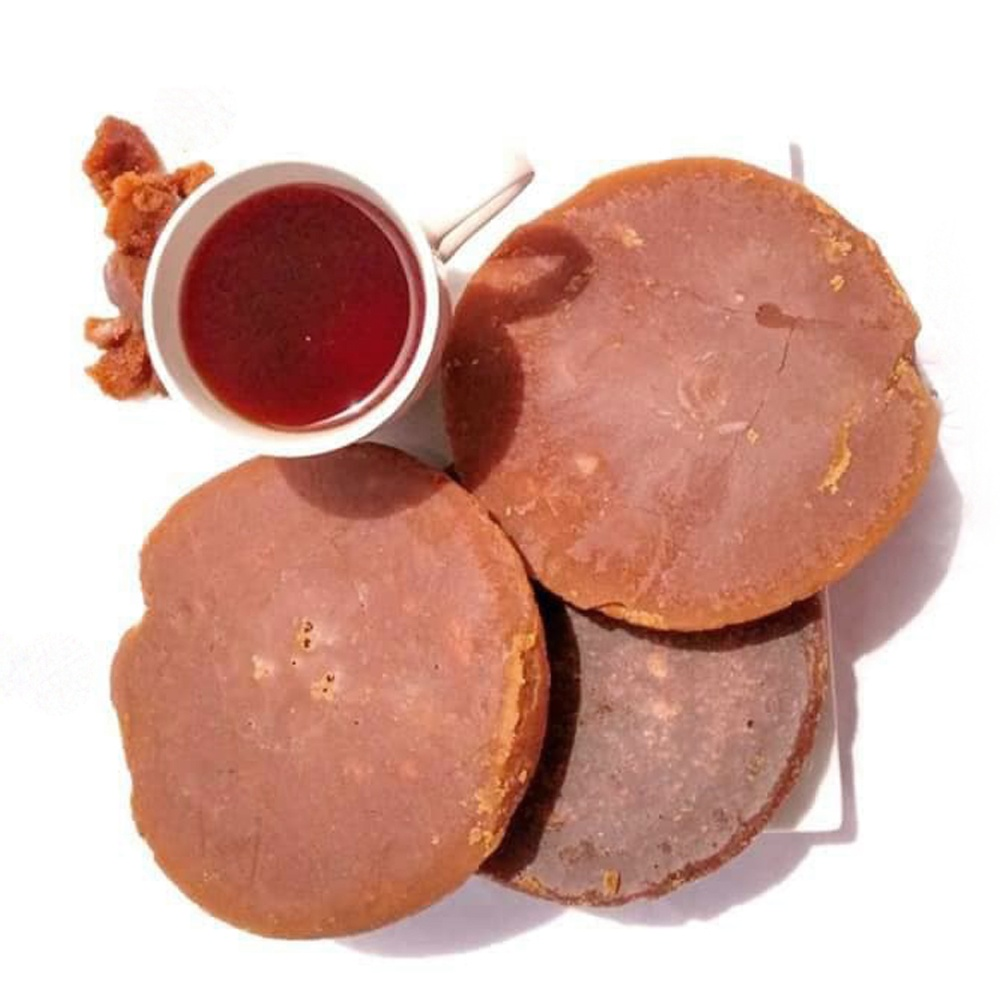hakuru: (436, 154, 942, 637), (108, 445, 541, 934)
